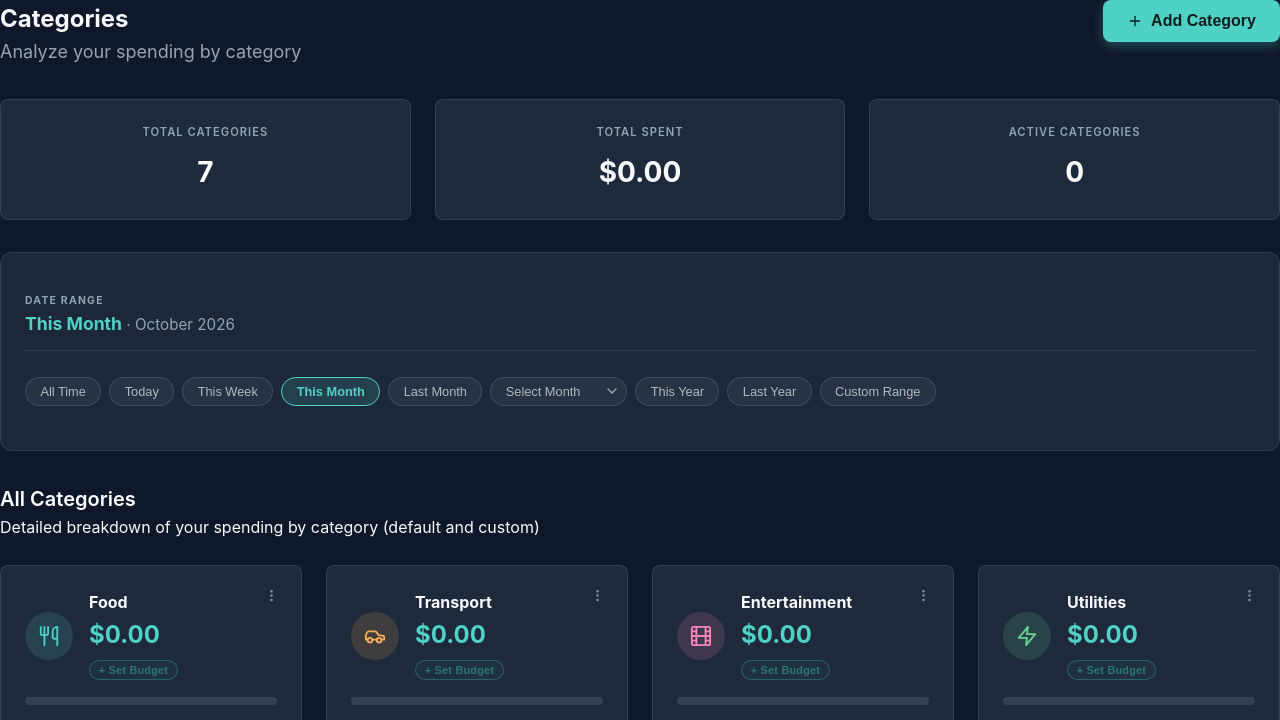
Categories Component › Form Interaction Tests › renders form with proper input fields
This screenshot has width=1280, height=720.
Step 1. Click the button "Add Category" → (1192, 21), box x1=1103 y1=0 x2=1279 y2=42
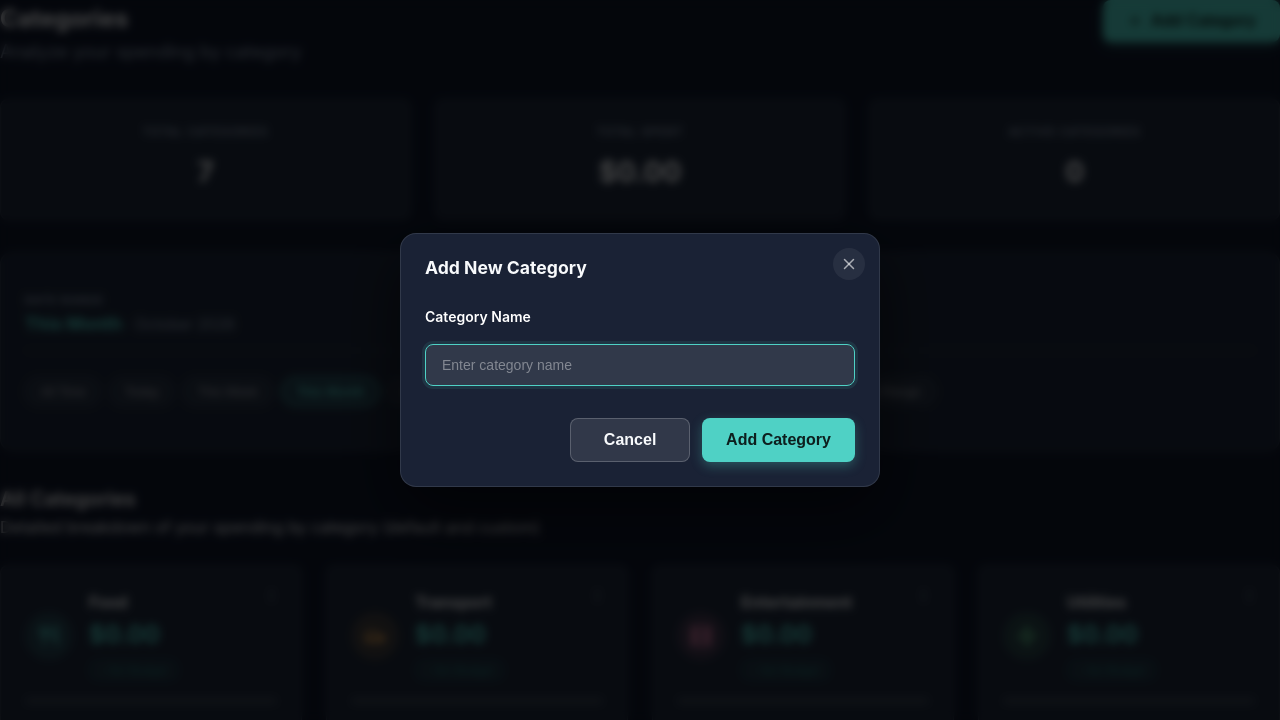
Result: the field with placeholder "Enter category name" is shown at x1=425 y1=344 x2=855 y2=386
Result: the button "Cancel" is shown at x1=570 y1=418 x2=690 y2=462
Result: the number of buttons "Add Category" is 2 at x1=1103 y1=0 x2=1279 y2=42; x1=702 y1=418 x2=855 y2=462
